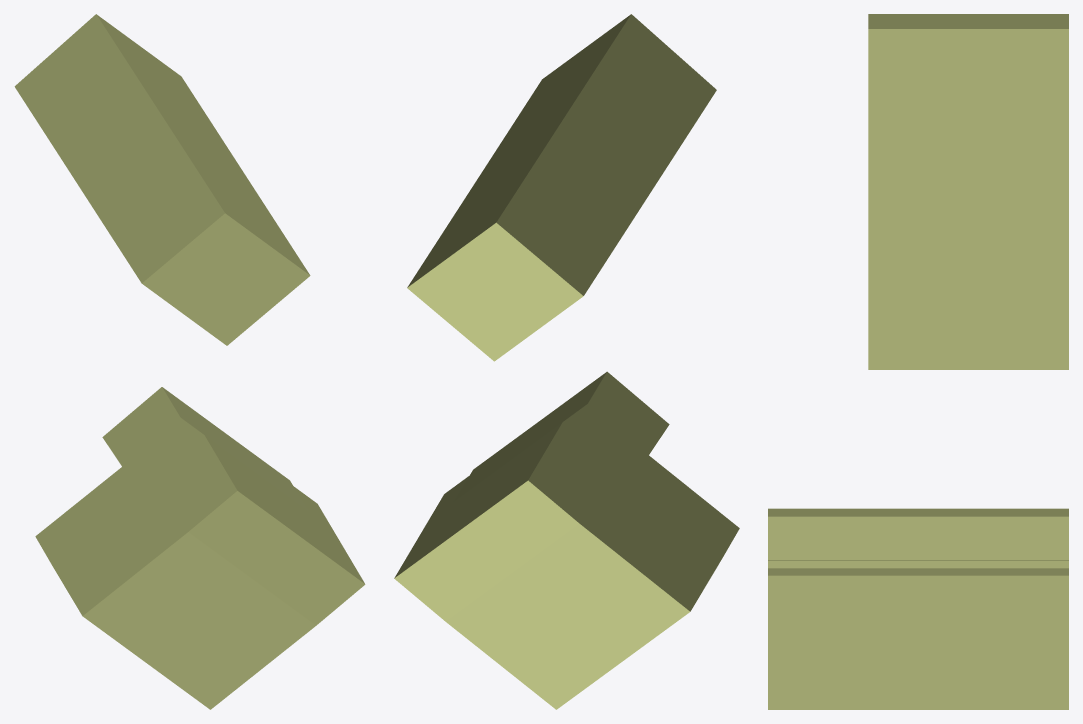
The picture shows the model from 3 angles, left to right: view 1: azimuth 30°, elevation 25°; view 2: azimuth 150°, elevation 25°; view 3: azimuth 270°, elevation 25°; orthographic projection. The views are drawn at different scales.
Parts seen in each view (by area): view 1: 0_1_2_0_3_3_0_2_0_2; view 2: 0_1_2_0_3_3_0_2_0_2; view 3: 0_1_2_0_3_3_0_2_0_2.
Boxes of the visible parts, box(x1,y1,x2,y2) form: 0_1_2_0_3_3_0_2_0_2: box(14, 14, 365, 709); 0_1_2_0_3_3_0_2_0_2: box(394, 14, 739, 709); 0_1_2_0_3_3_0_2_0_2: box(768, 14, 1068, 709).
Size of the model in its own units: 9.05 by 23.23 by 9.
